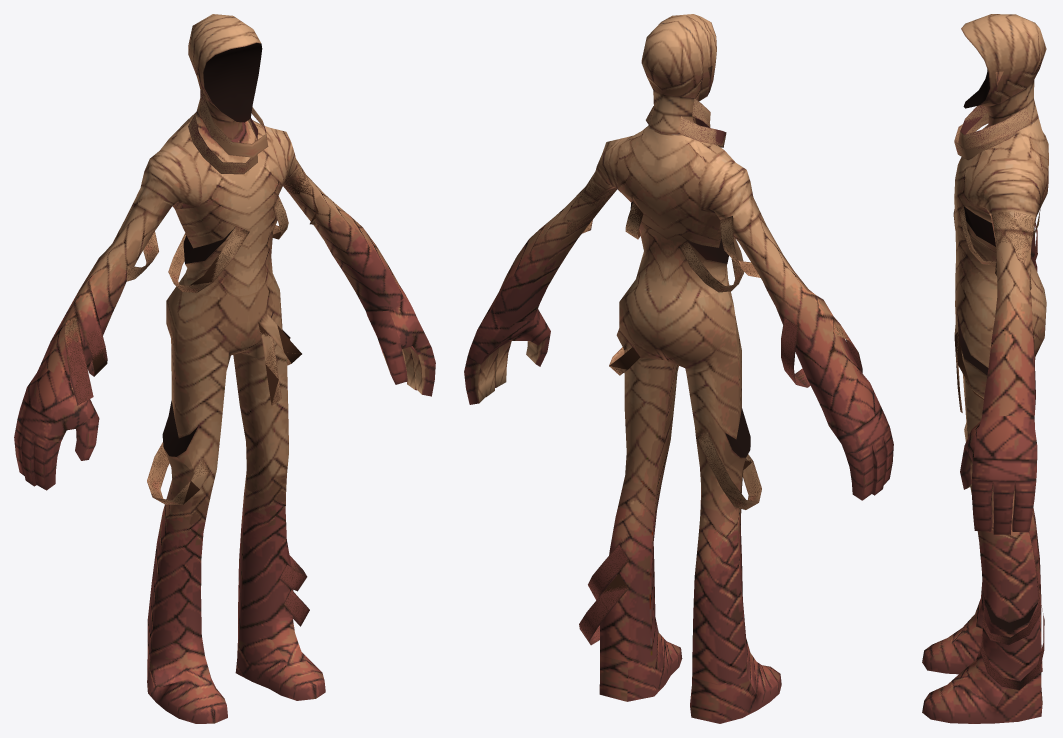
File: ezro_zombie_83c9fb7c.glb
3 renders of one model, left to right at view 1: azimuth 30°, elevation 25°; view 2: azimuth 150°, elevation 25°; view 3: azimuth 270°, elevation 25°, orthographic.
Bounding box in the file's own units: 1.79 × 2.86 × 0.4891.
1 material, 1 textured.
